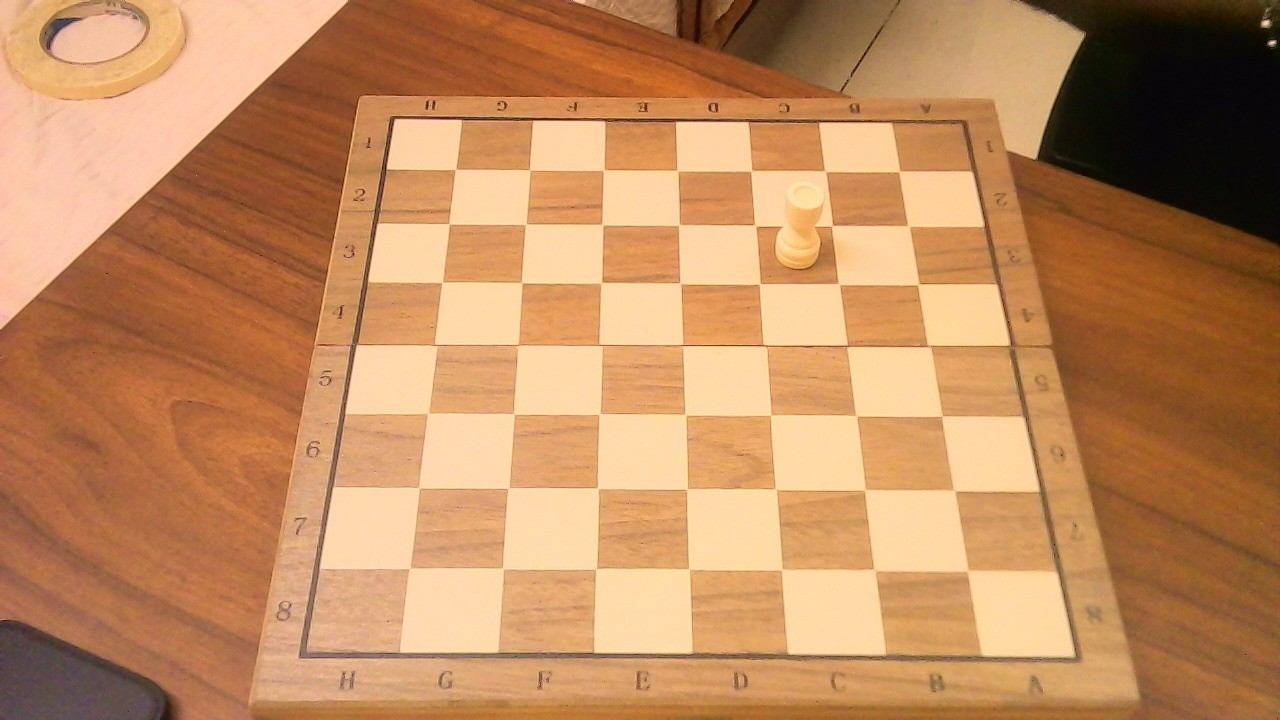R: (767, 171, 834, 275)
